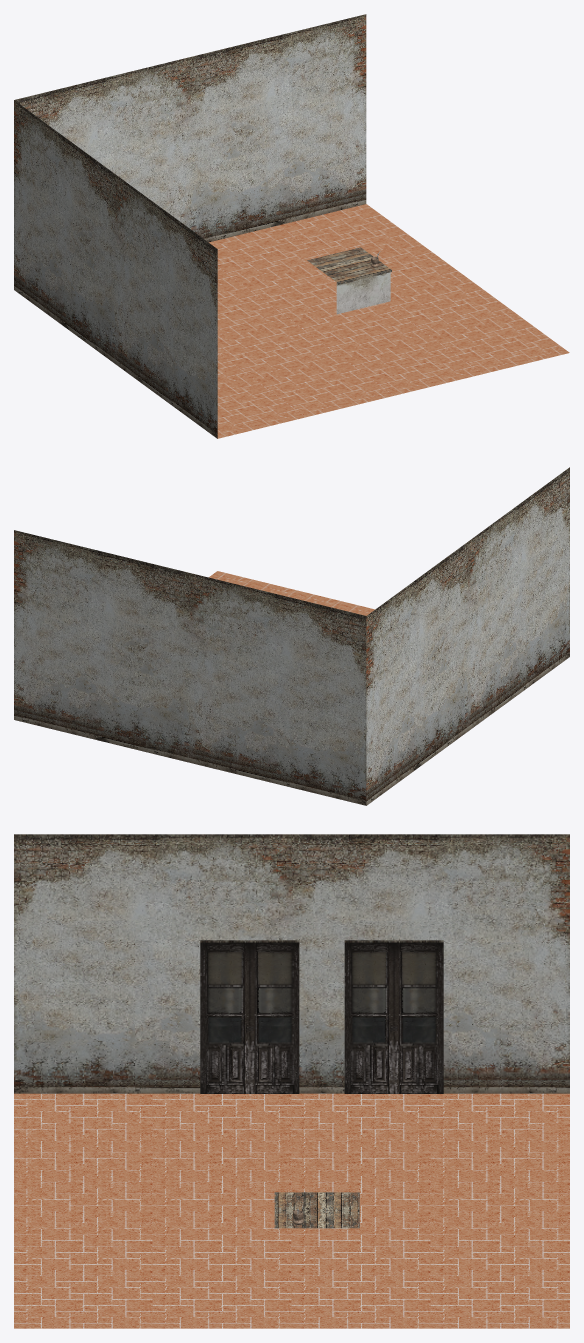
The model's file is Menu (4).fbx.
3 renders of one model, top to bottom at view 1: azimuth 30°, elevation 25°; view 2: azimuth 150°, elevation 25°; view 3: azimuth 270°, elevation 25°, orthographic. The views are drawn at different scales.
Visible parts, largest first — view 1: Cube.001, Cube.003; view 2: Cube.001; view 3: Cube.001, Cube.003.
Boxes of the visible parts, x1=… form: Cube.001: x1=14, y1=14, x2=569, y2=438; Cube.003: x1=307, y1=247, x2=391, y2=314; Cube.001: x1=14, y1=467, x2=569, y2=805; Cube.001: x1=14, y1=834, x2=569, y2=1328; Cube.003: x1=274, y1=1192, x2=359, y2=1228.
Size of the model in its own units: 677 by 348 by 677.
